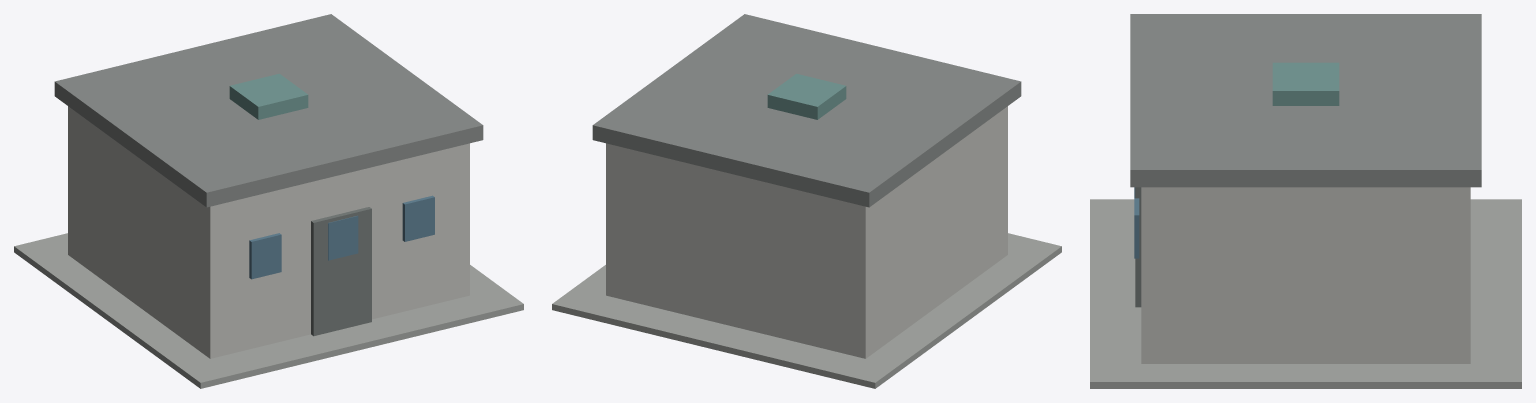
Rendered from block_2.glb.
3 renders of one model, left to right at view 1: azimuth 30°, elevation 25°; view 2: azimuth 150°, elevation 25°; view 3: azimuth 270°, elevation 25°, orthographic. The views are drawn at different scales.
Visible parts, largest first — view 1: block_2; view 2: block_2; view 3: block_2.
Boxes of the visible parts, bbox=[...] form: block_2: bbox=[14, 14, 523, 388]; block_2: bbox=[552, 14, 1061, 388]; block_2: bbox=[1090, 14, 1521, 388].
Size of the model in its own units: 3.88 by 2.19 by 3.88.
